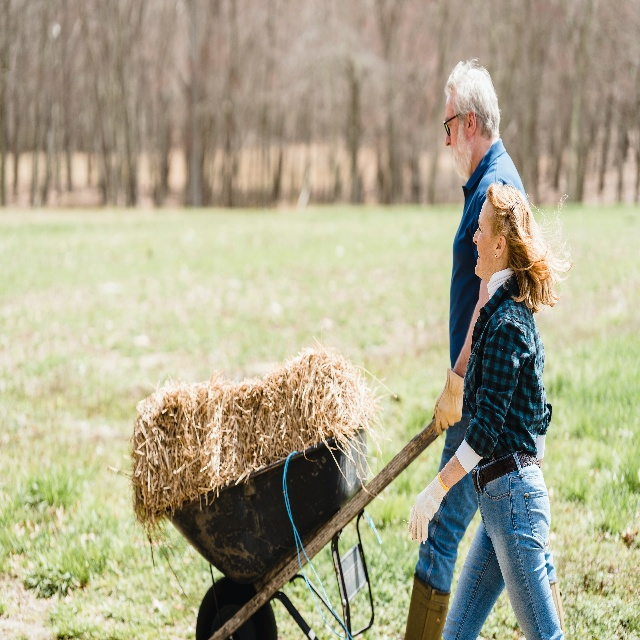Gafas: (443, 112, 459, 136)
Guantes: (408, 472, 450, 545), (432, 367, 464, 436)
